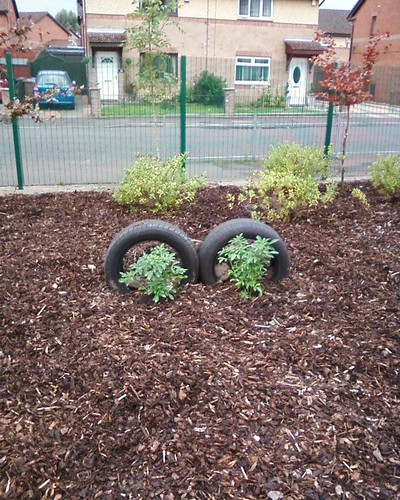building: (90, 1, 322, 112), (339, 1, 400, 103), (1, 9, 64, 98)
car: (37, 71, 77, 110)
street: (9, 111, 400, 183)
